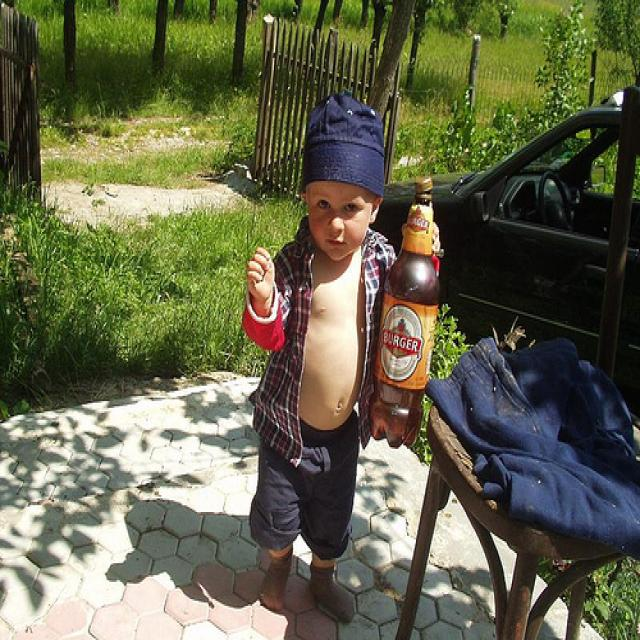light_vehicle: (376, 99, 639, 420)
